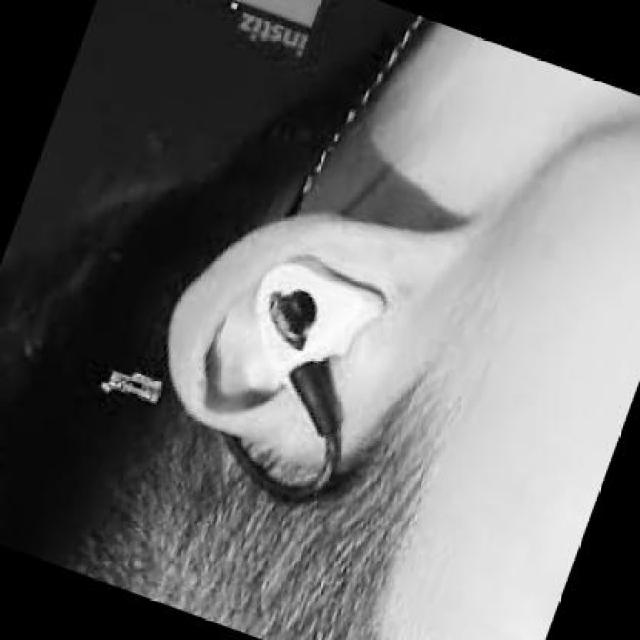earphone: (263, 246, 375, 452)
